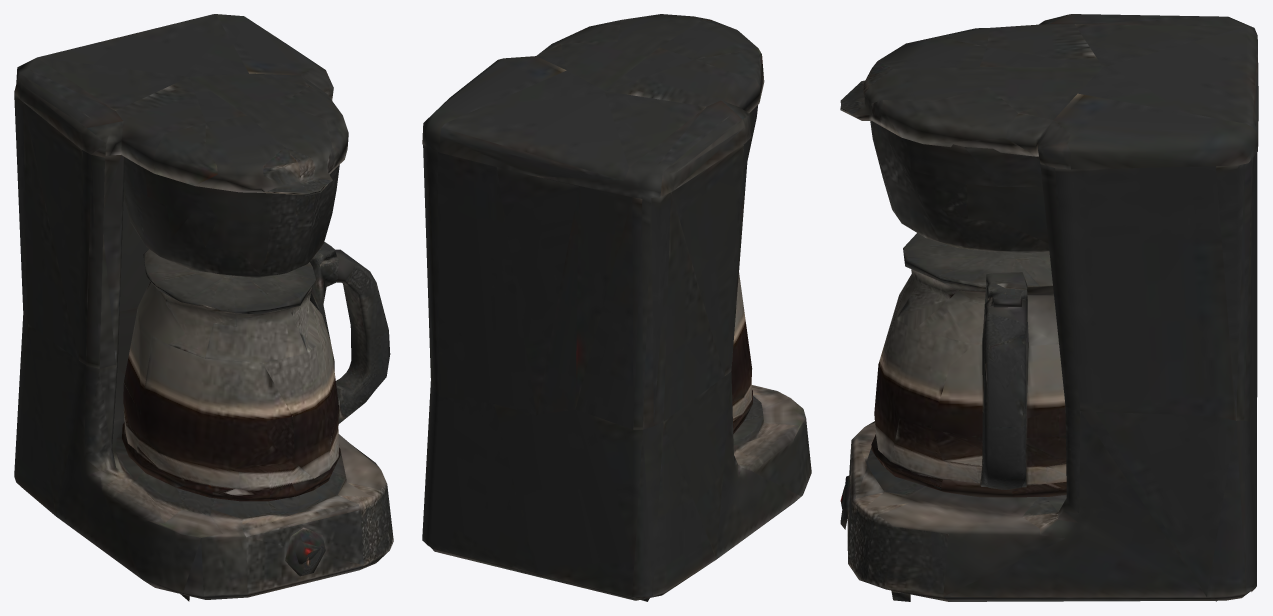
Rendered from p7-drip-coffee-maker-t25.glb.
The picture shows the model from 3 angles, left to right: view 1: azimuth 30°, elevation 25°; view 2: azimuth 150°, elevation 25°; view 3: azimuth 270°, elevation 25°; orthographic projection. The views are drawn at different scales.
Visible parts, largest first — view 1: p7-drip-coffee-maker-t25; view 2: p7-drip-coffee-maker-t25; view 3: p7-drip-coffee-maker-t25.
Boxes of the visible parts, box(x1,y1,x2,y2) form: p7-drip-coffee-maker-t25: box(14, 14, 393, 601); p7-drip-coffee-maker-t25: box(422, 14, 811, 601); p7-drip-coffee-maker-t25: box(840, 14, 1258, 601).
Bounding box in the file's own units: 0.25 × 0.38 × 0.3.
Materials: 1 (1 with a texture image).
